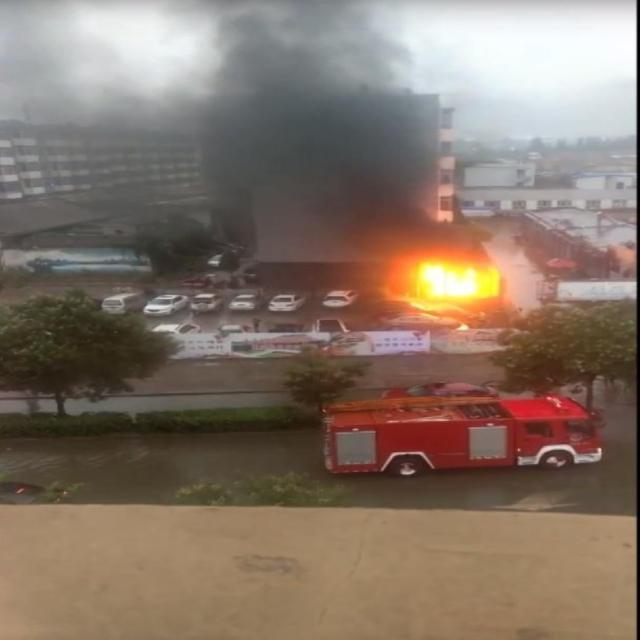Fire: (406, 261, 498, 311)
Smoke: (1, 1, 494, 258)
